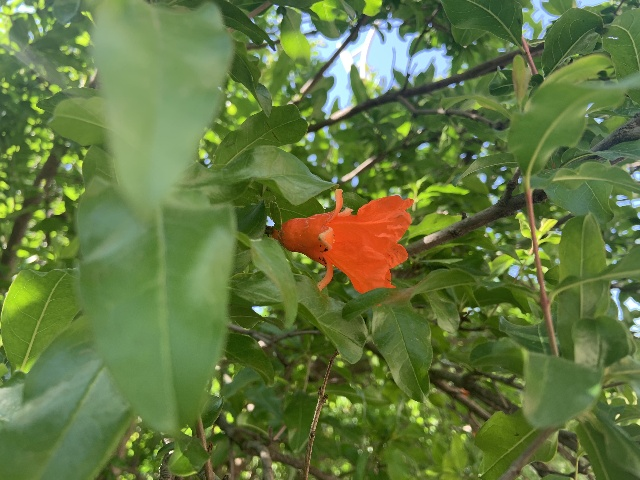flower: (276, 189, 413, 295)
